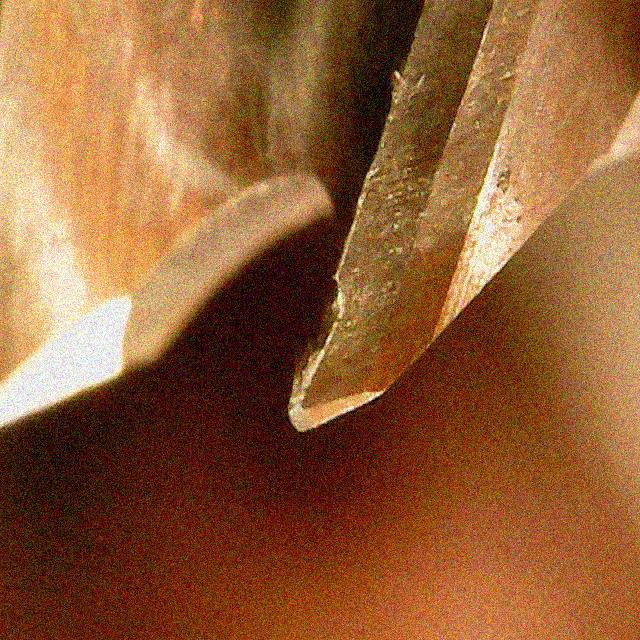Tool-wear-class-1: (285, 161, 419, 444)
